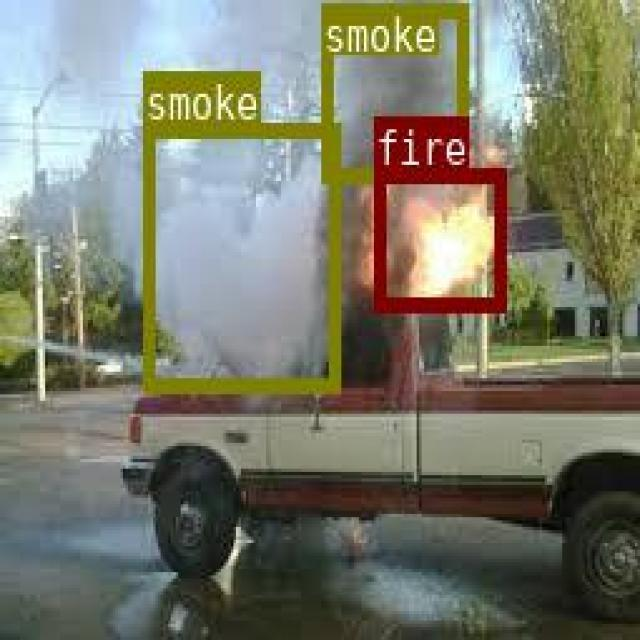fire: (373, 167, 503, 308)
smoke: (142, 121, 338, 388), (321, 2, 465, 179)
